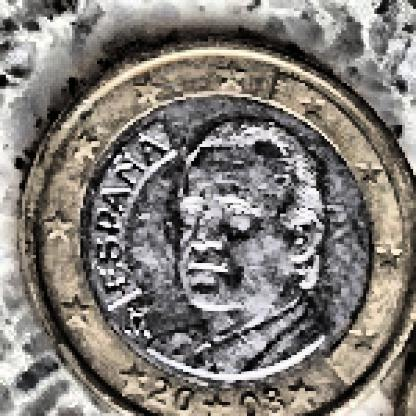coin: (20, 42, 414, 413)
